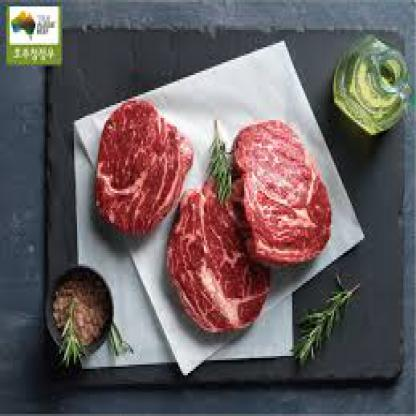beef: (233, 124, 332, 266), (175, 188, 275, 324), (98, 105, 181, 236)
